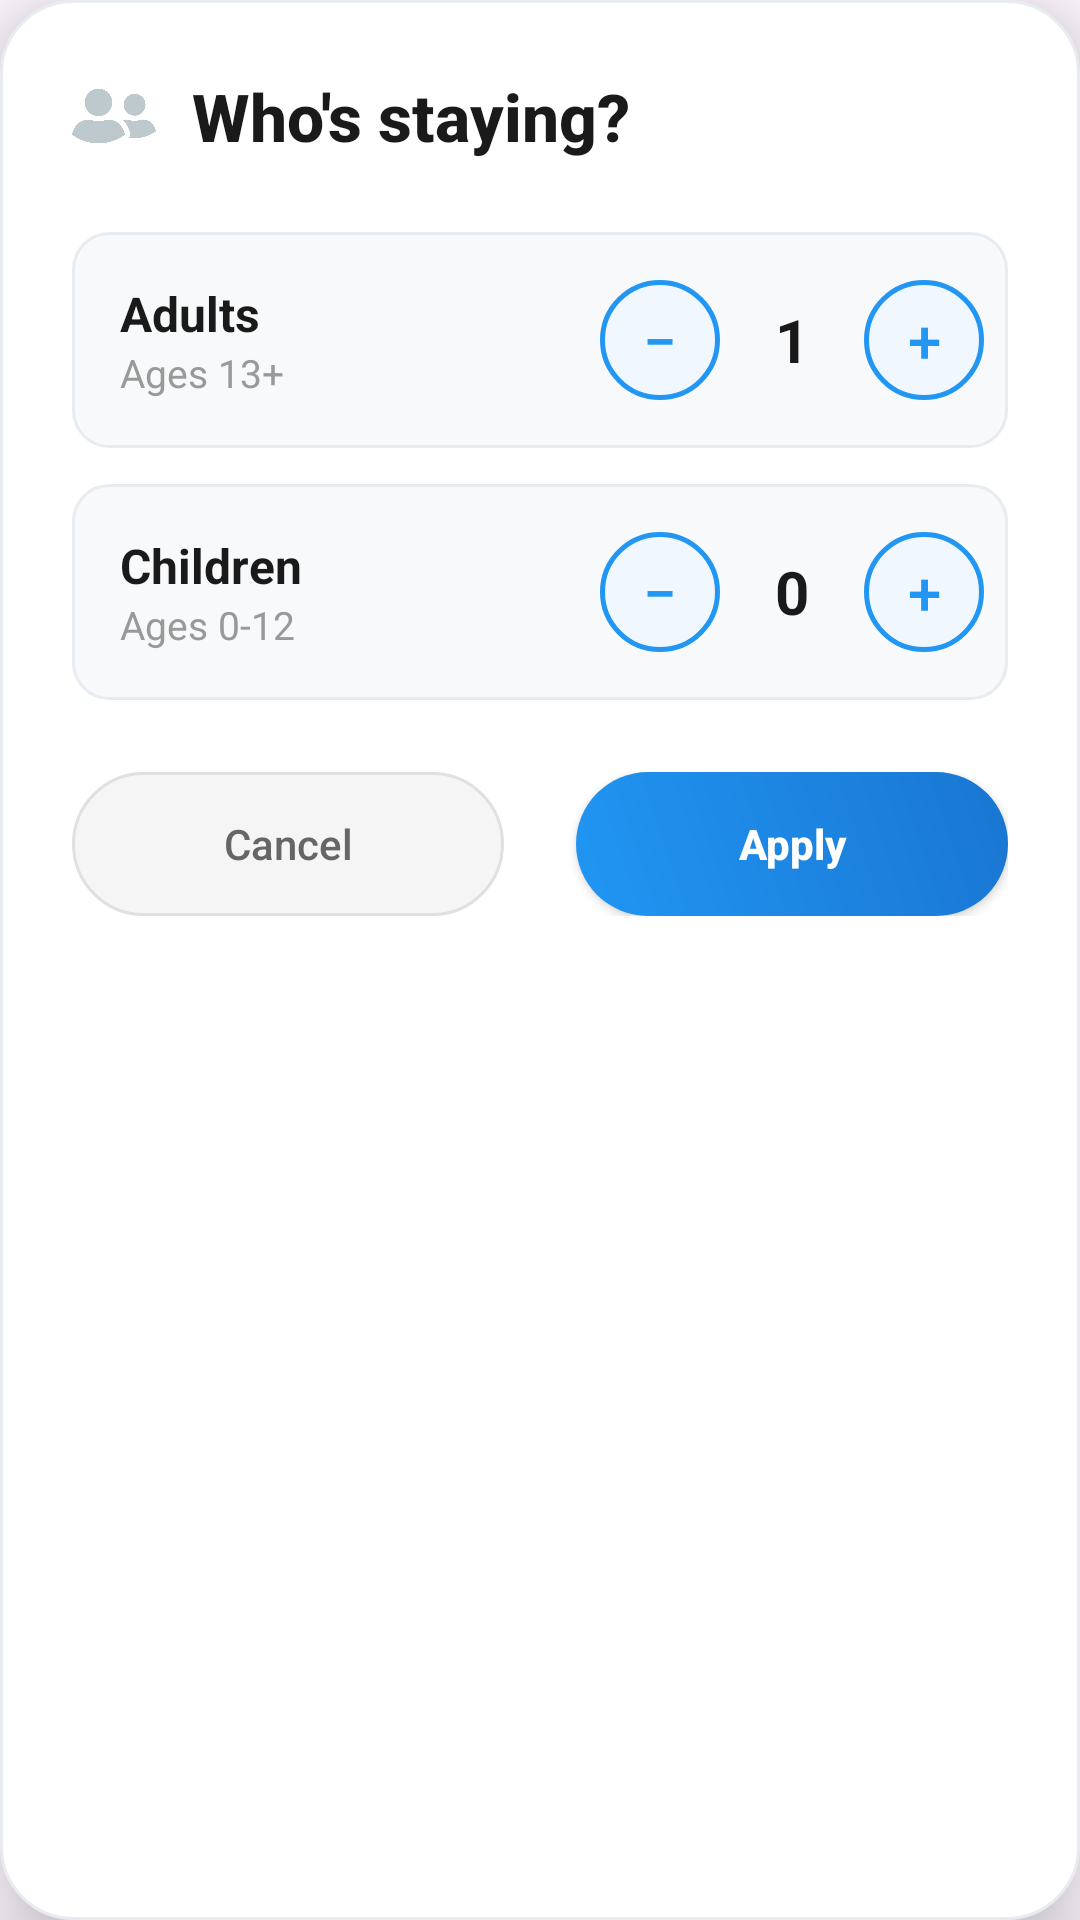

Locate icon controls on the screen. Image size 1080×1920, boxes as (x1, y1, x2, y2).
people modern: (72, 89, 156, 143)
